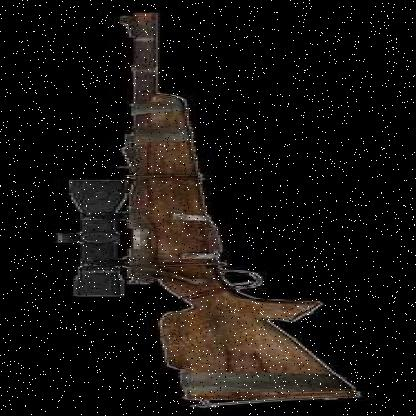rifle: (14, 5, 399, 405)
